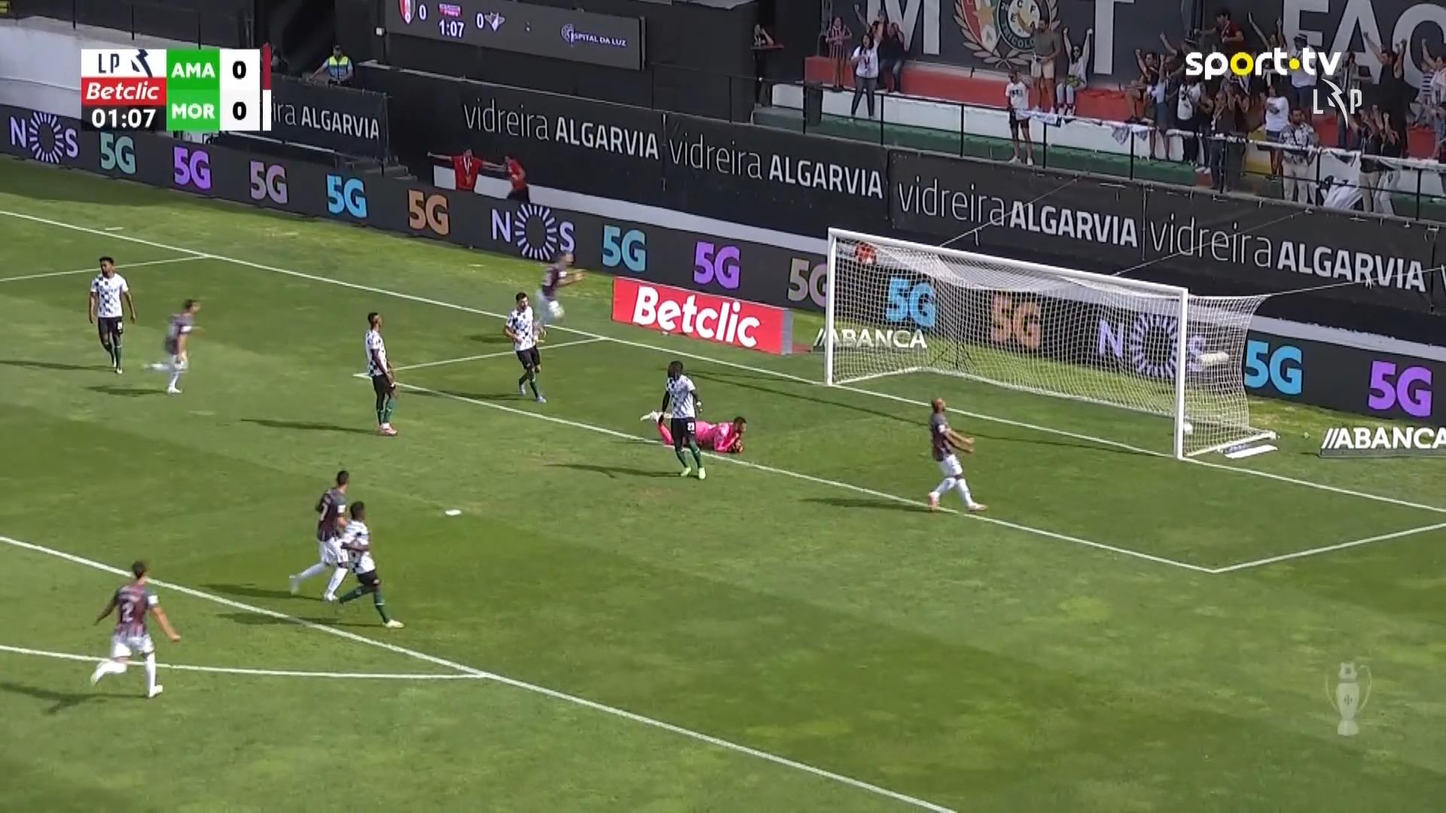ball: (1183, 420, 1194, 437)
goalkeeper: (639, 410, 746, 455)
player: (88, 559, 182, 699), (330, 500, 404, 628), (288, 469, 352, 601), (926, 396, 988, 513), (656, 359, 707, 480), (87, 255, 136, 375), (144, 297, 203, 394), (502, 291, 547, 403), (532, 248, 584, 339), (363, 310, 399, 435)
